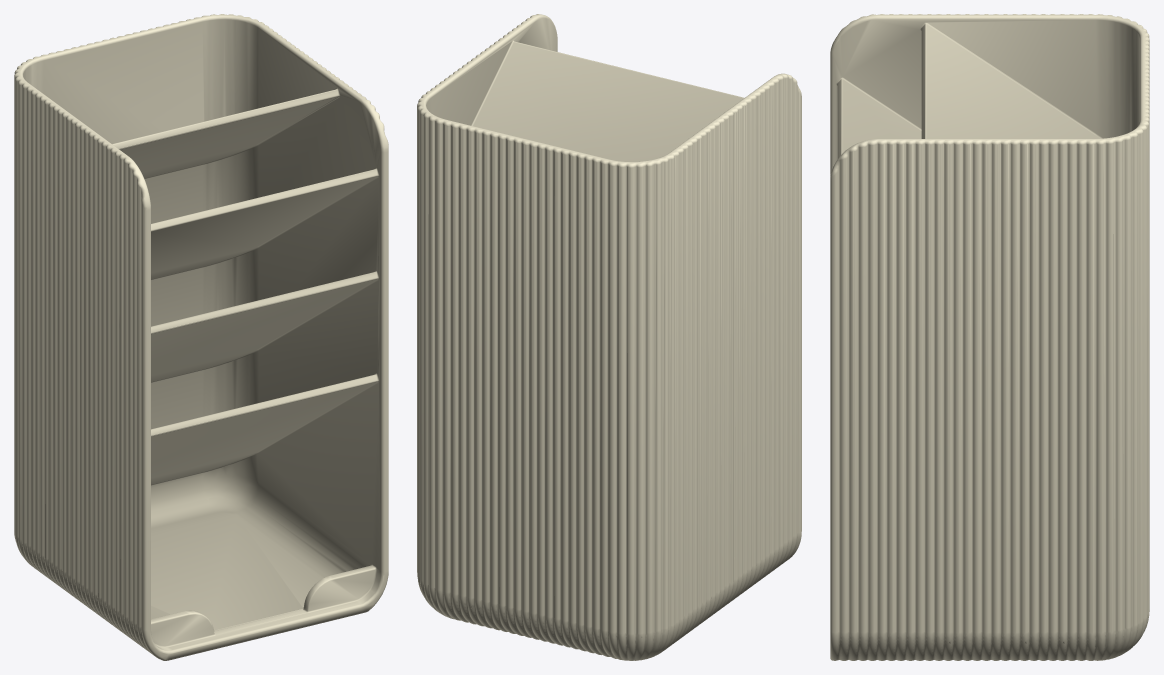
The model's file is kalemlik-kademeli.glb.
3 renders of one model, left to right at view 1: azimuth 30°, elevation 25°; view 2: azimuth 150°, elevation 25°; view 3: azimuth 270°, elevation 25°, orthographic. The views are drawn at different scales.
Visible parts, largest first — view 1: Body; view 2: Body; view 3: Body.
Part boxes in pixels (bbox=[...]): Body: bbox=[14, 14, 388, 660]; Body: bbox=[417, 14, 801, 660]; Body: bbox=[830, 14, 1149, 660].
Bounding box in the file's own units: 0.093 × 0.178 × 0.0973.
